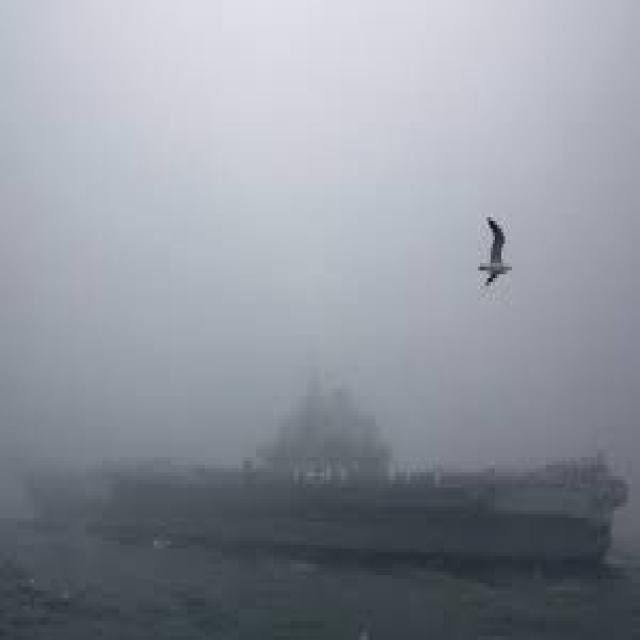navalvessels: (34, 362, 632, 579)
